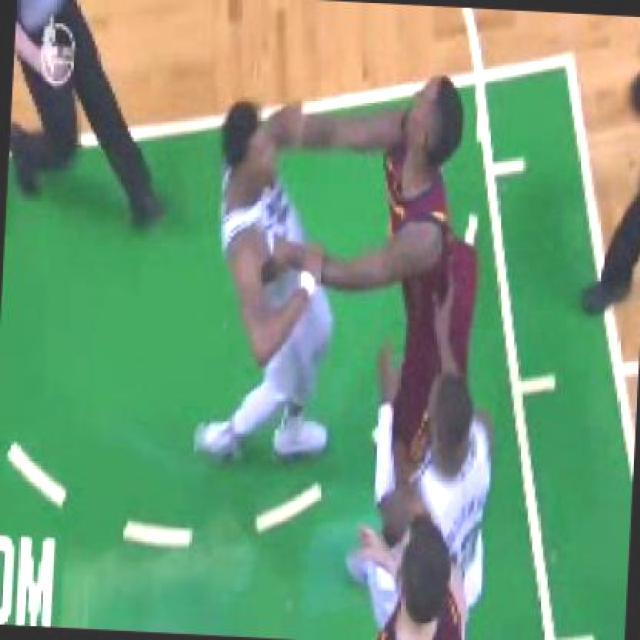fight: (206, 66, 479, 382)
